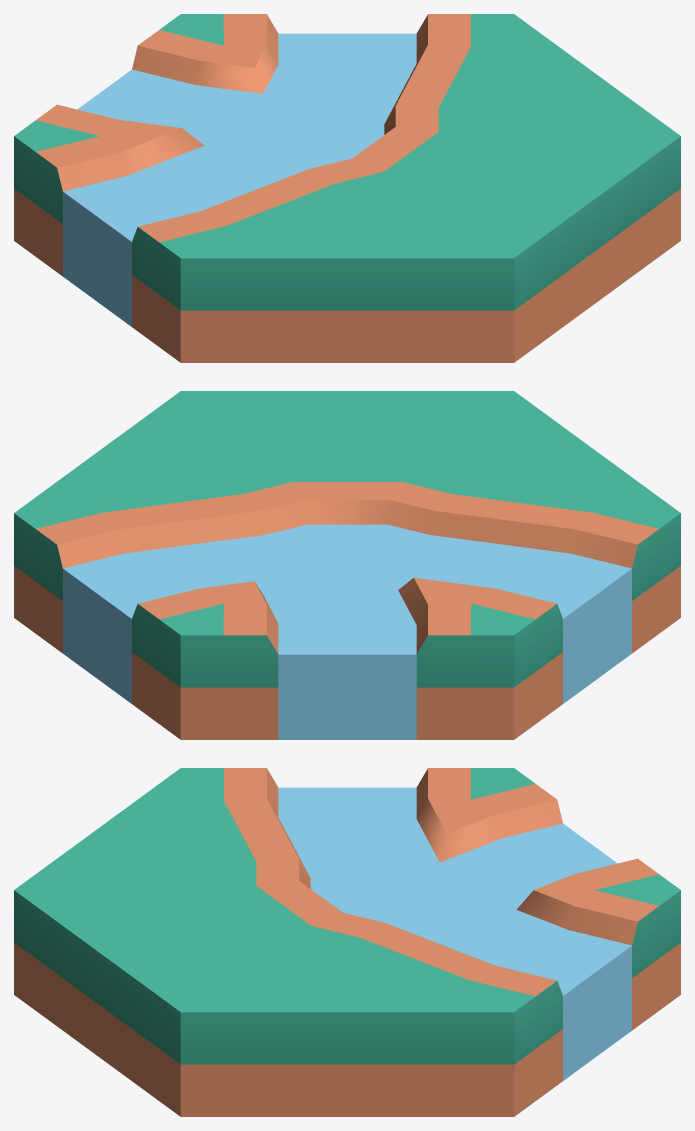
The model's file is kenney-hexagon-river-intersectiona.glb.
The picture shows the model from 3 angles, top to bottom: view 1: azimuth 30°, elevation 25°; view 2: azimuth 150°, elevation 25°; view 3: azimuth 270°, elevation 25°; orthographic projection.
Visible parts, largest first — view 1: river_intersectionA; view 2: river_intersectionA; view 3: river_intersectionA.
Boxes of the visible parts, box(x1,y1,x2,y2) form: river_intersectionA: box(14, 14, 680, 362); river_intersectionA: box(14, 391, 680, 739); river_intersectionA: box(14, 768, 680, 1116).
Size of the model in its own units: 1 by 0.2 by 1.15.
Materials: 1 (1 with a texture image).
